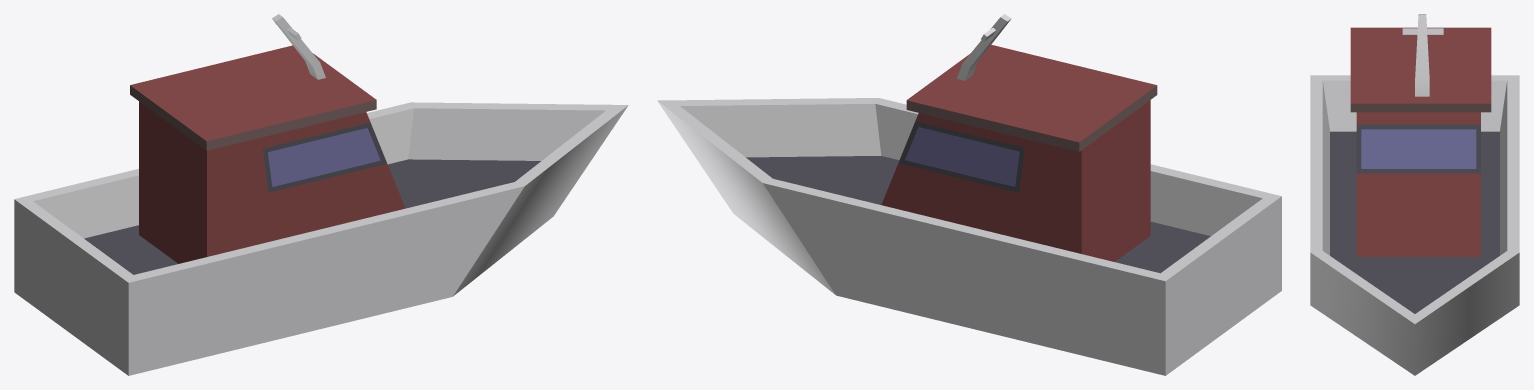
The model's file is boat3.FBX.
3 renders of one model, left to right at view 1: azimuth 30°, elevation 25°; view 2: azimuth 150°, elevation 25°; view 3: azimuth 270°, elevation 25°, orthographic. The views are drawn at different scales.
Parts seen in each view (by area): view 1: boat3; view 2: boat3; view 3: boat3.
Part boxes in pixels (<box>): boat3: <box>14,14,628,375</box>; boat3: <box>657,14,1281,375</box>; boat3: <box>1310,14,1519,375</box>.
Bounding box in the file's own units: 13.52 × 6.11 × 4.81.
